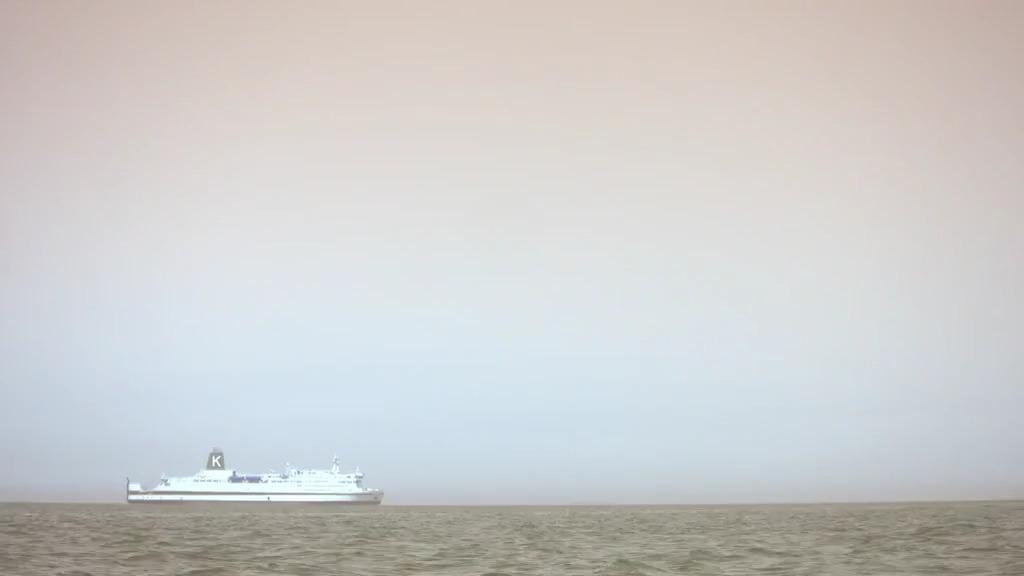PassengerShip: (122, 445, 390, 505)
